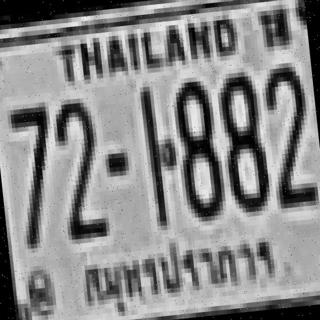N02: (261, 62, 314, 205), (52, 95, 105, 238), (261, 59, 313, 193), (50, 95, 102, 224)
N07: (6, 102, 59, 245), (6, 104, 54, 202)
N08: (171, 75, 224, 218), (215, 66, 268, 209)
P57: (67, 225, 290, 320)
